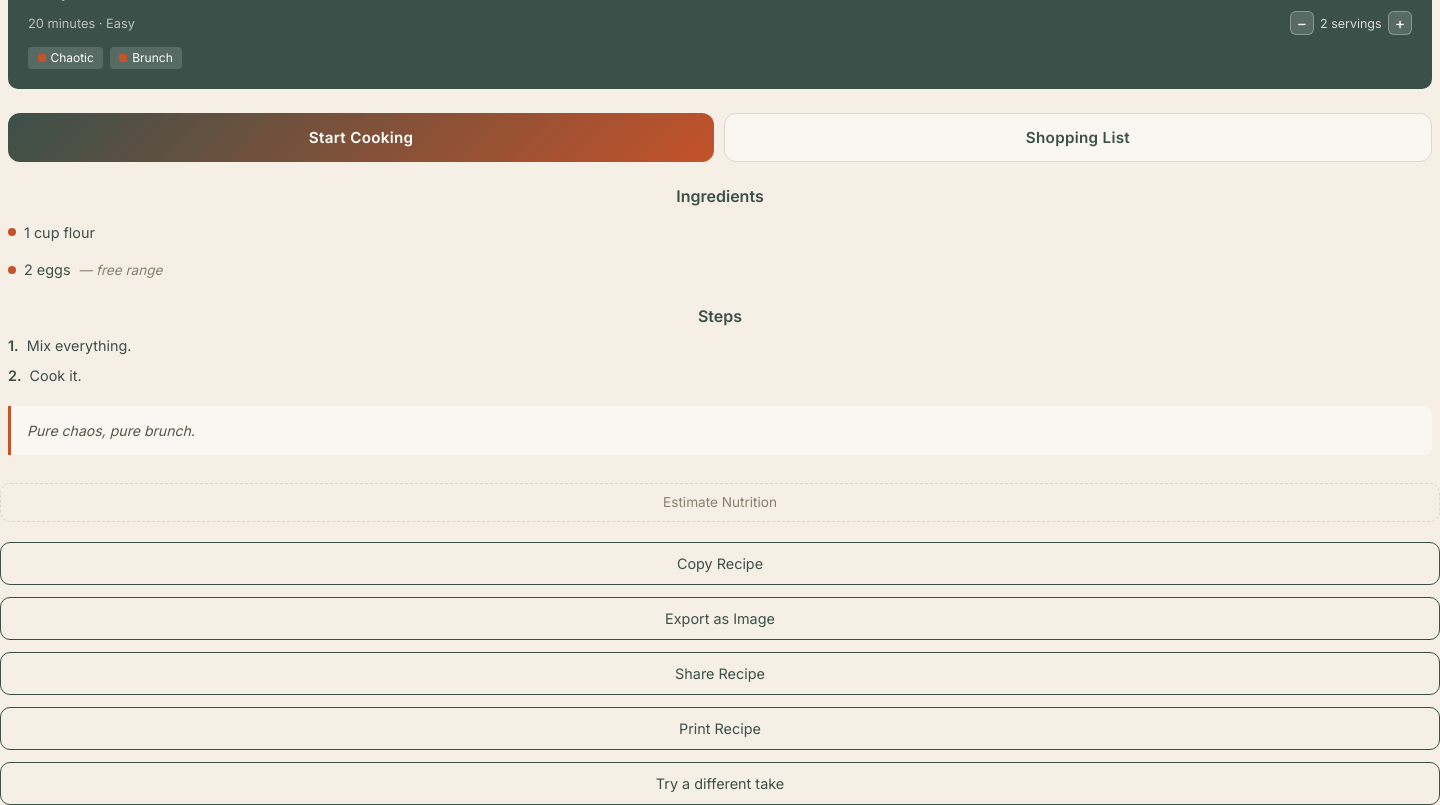
RecipeCard — regenerate confirmation › dismisses confirmation without regenerating when 'Keep it' is clicked
(page scrolled)
Click the button "Try a different take".
click(720, 783)  # box [0,762,1439,804]
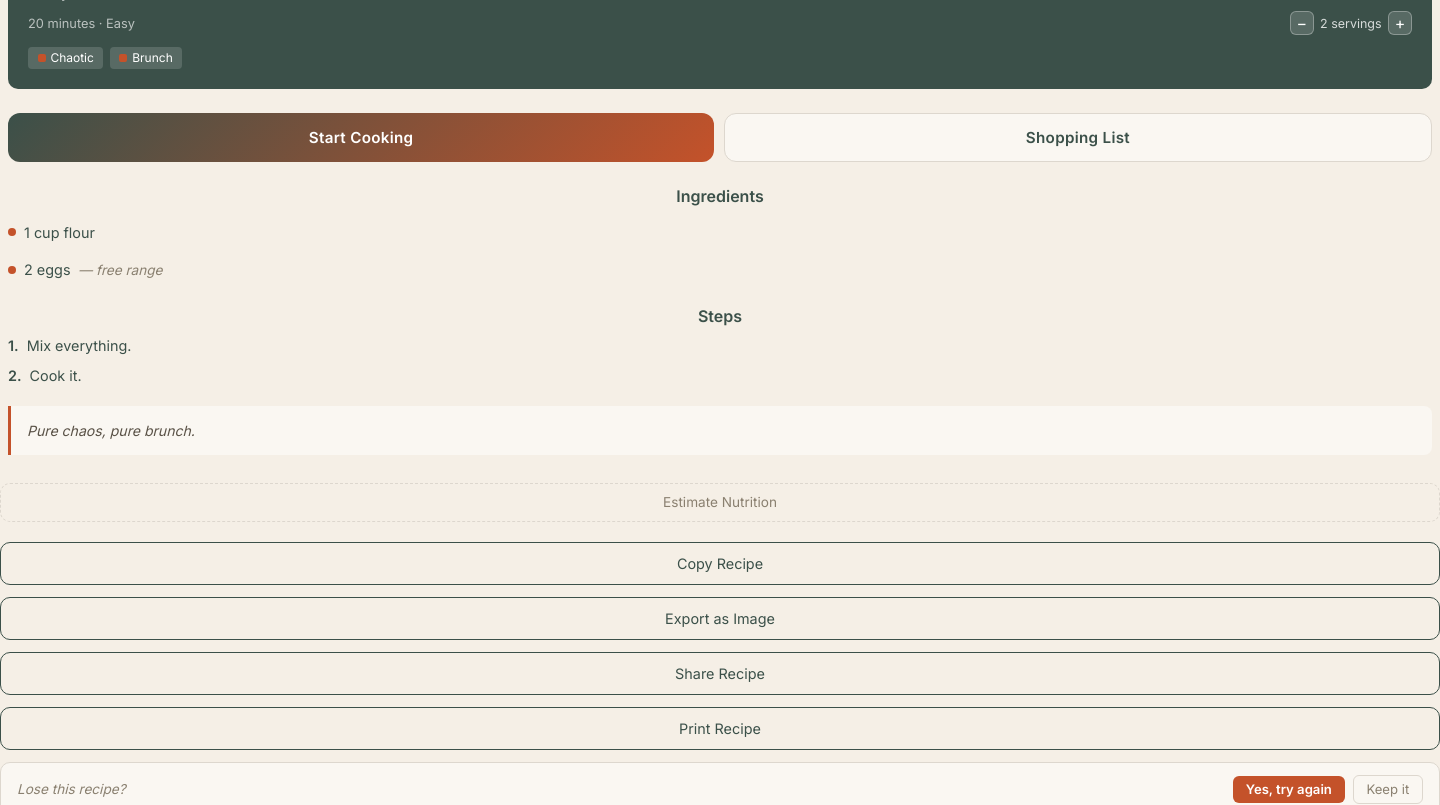
Click the button "Keep it".
click(1388, 789)  # box [1353,774,1423,804]
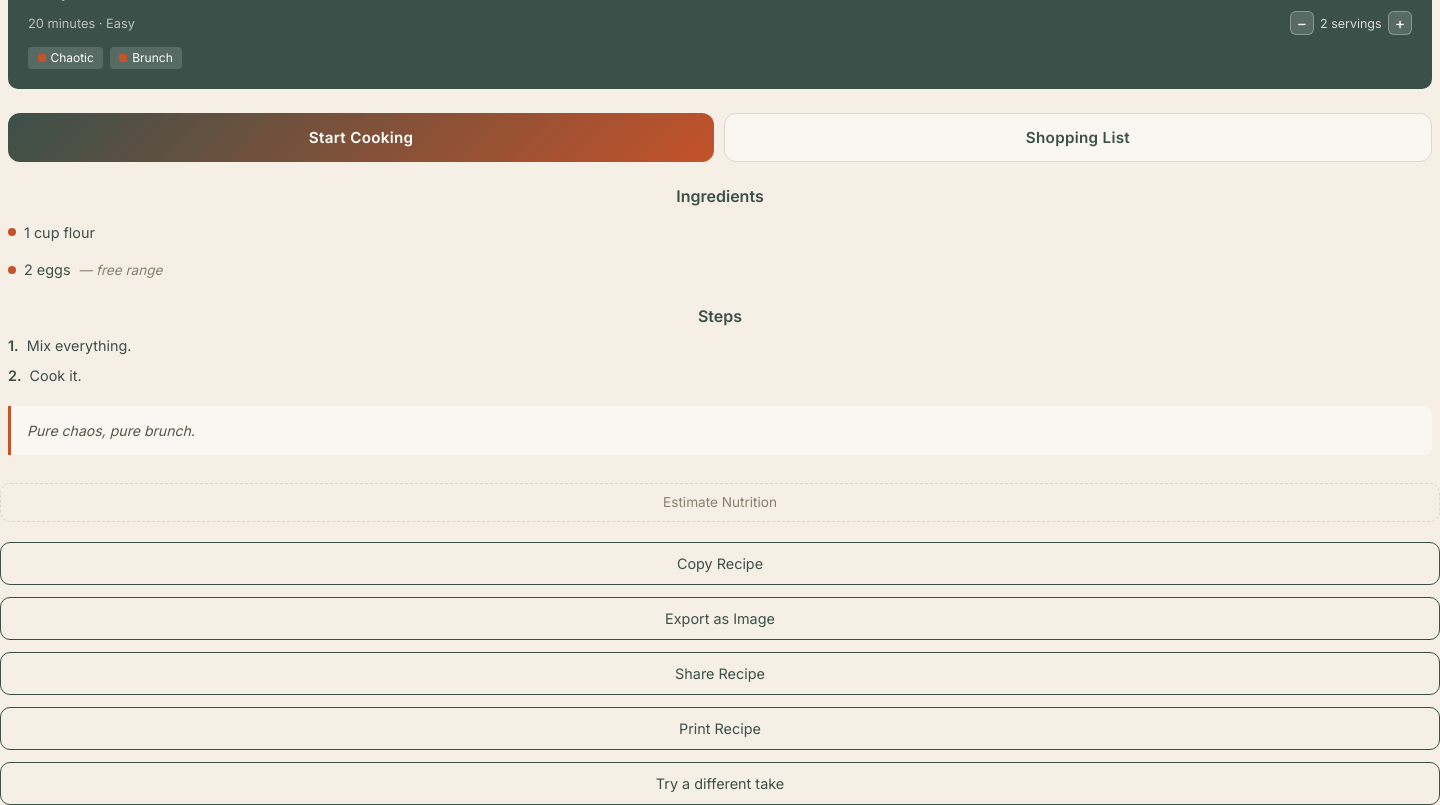
Now the button "Try a different take" is shown, box [0,762,1439,804]
